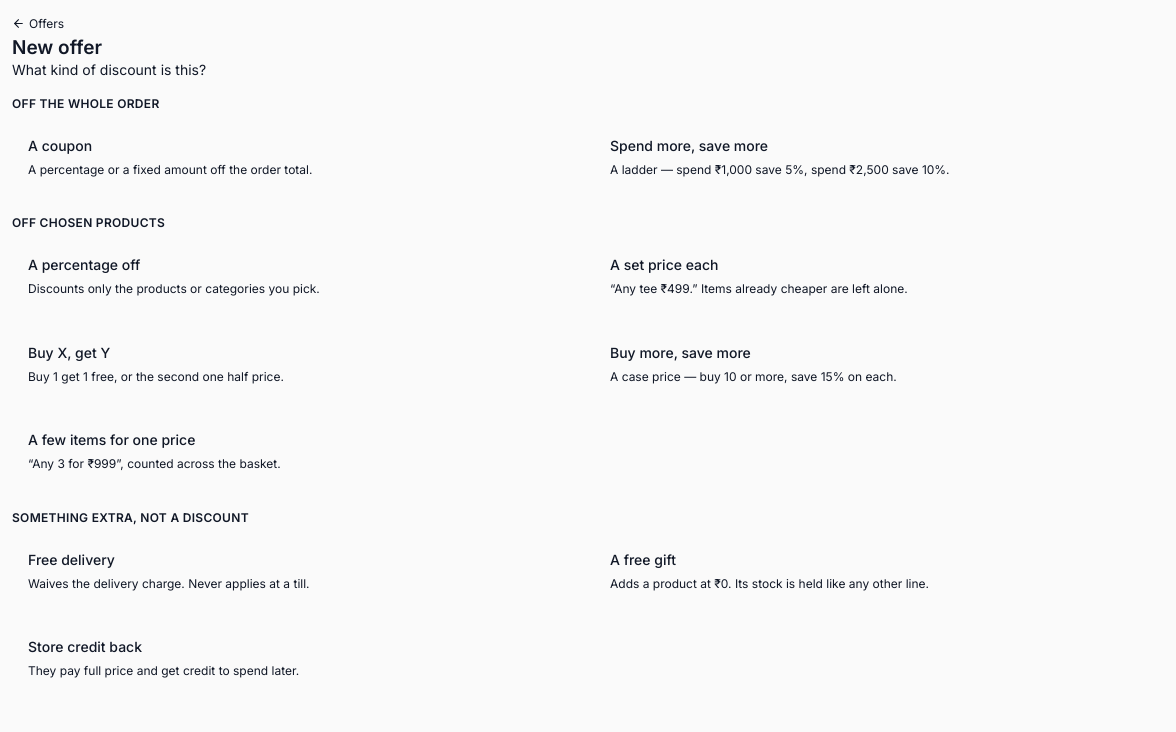
Test case: OfferForm — the type picker › opens the form on the type that was chosen
Click the button "Buy X, get Y Buy 1 get 1 free, or the second one half price.": (69, 352) [12,327,582,402]
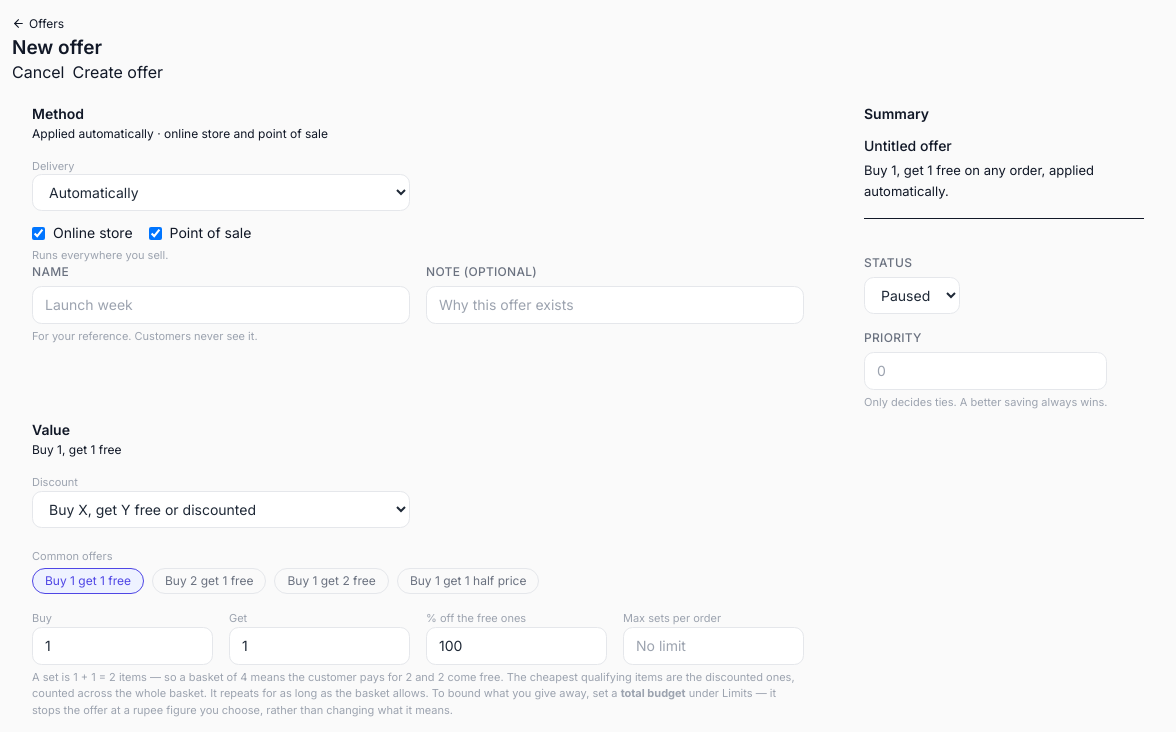
Expected: the heading "Method" is shown, [32,105,84,122]
Expected: the text "Max sets per order" is shown, [623,611,721,625]
